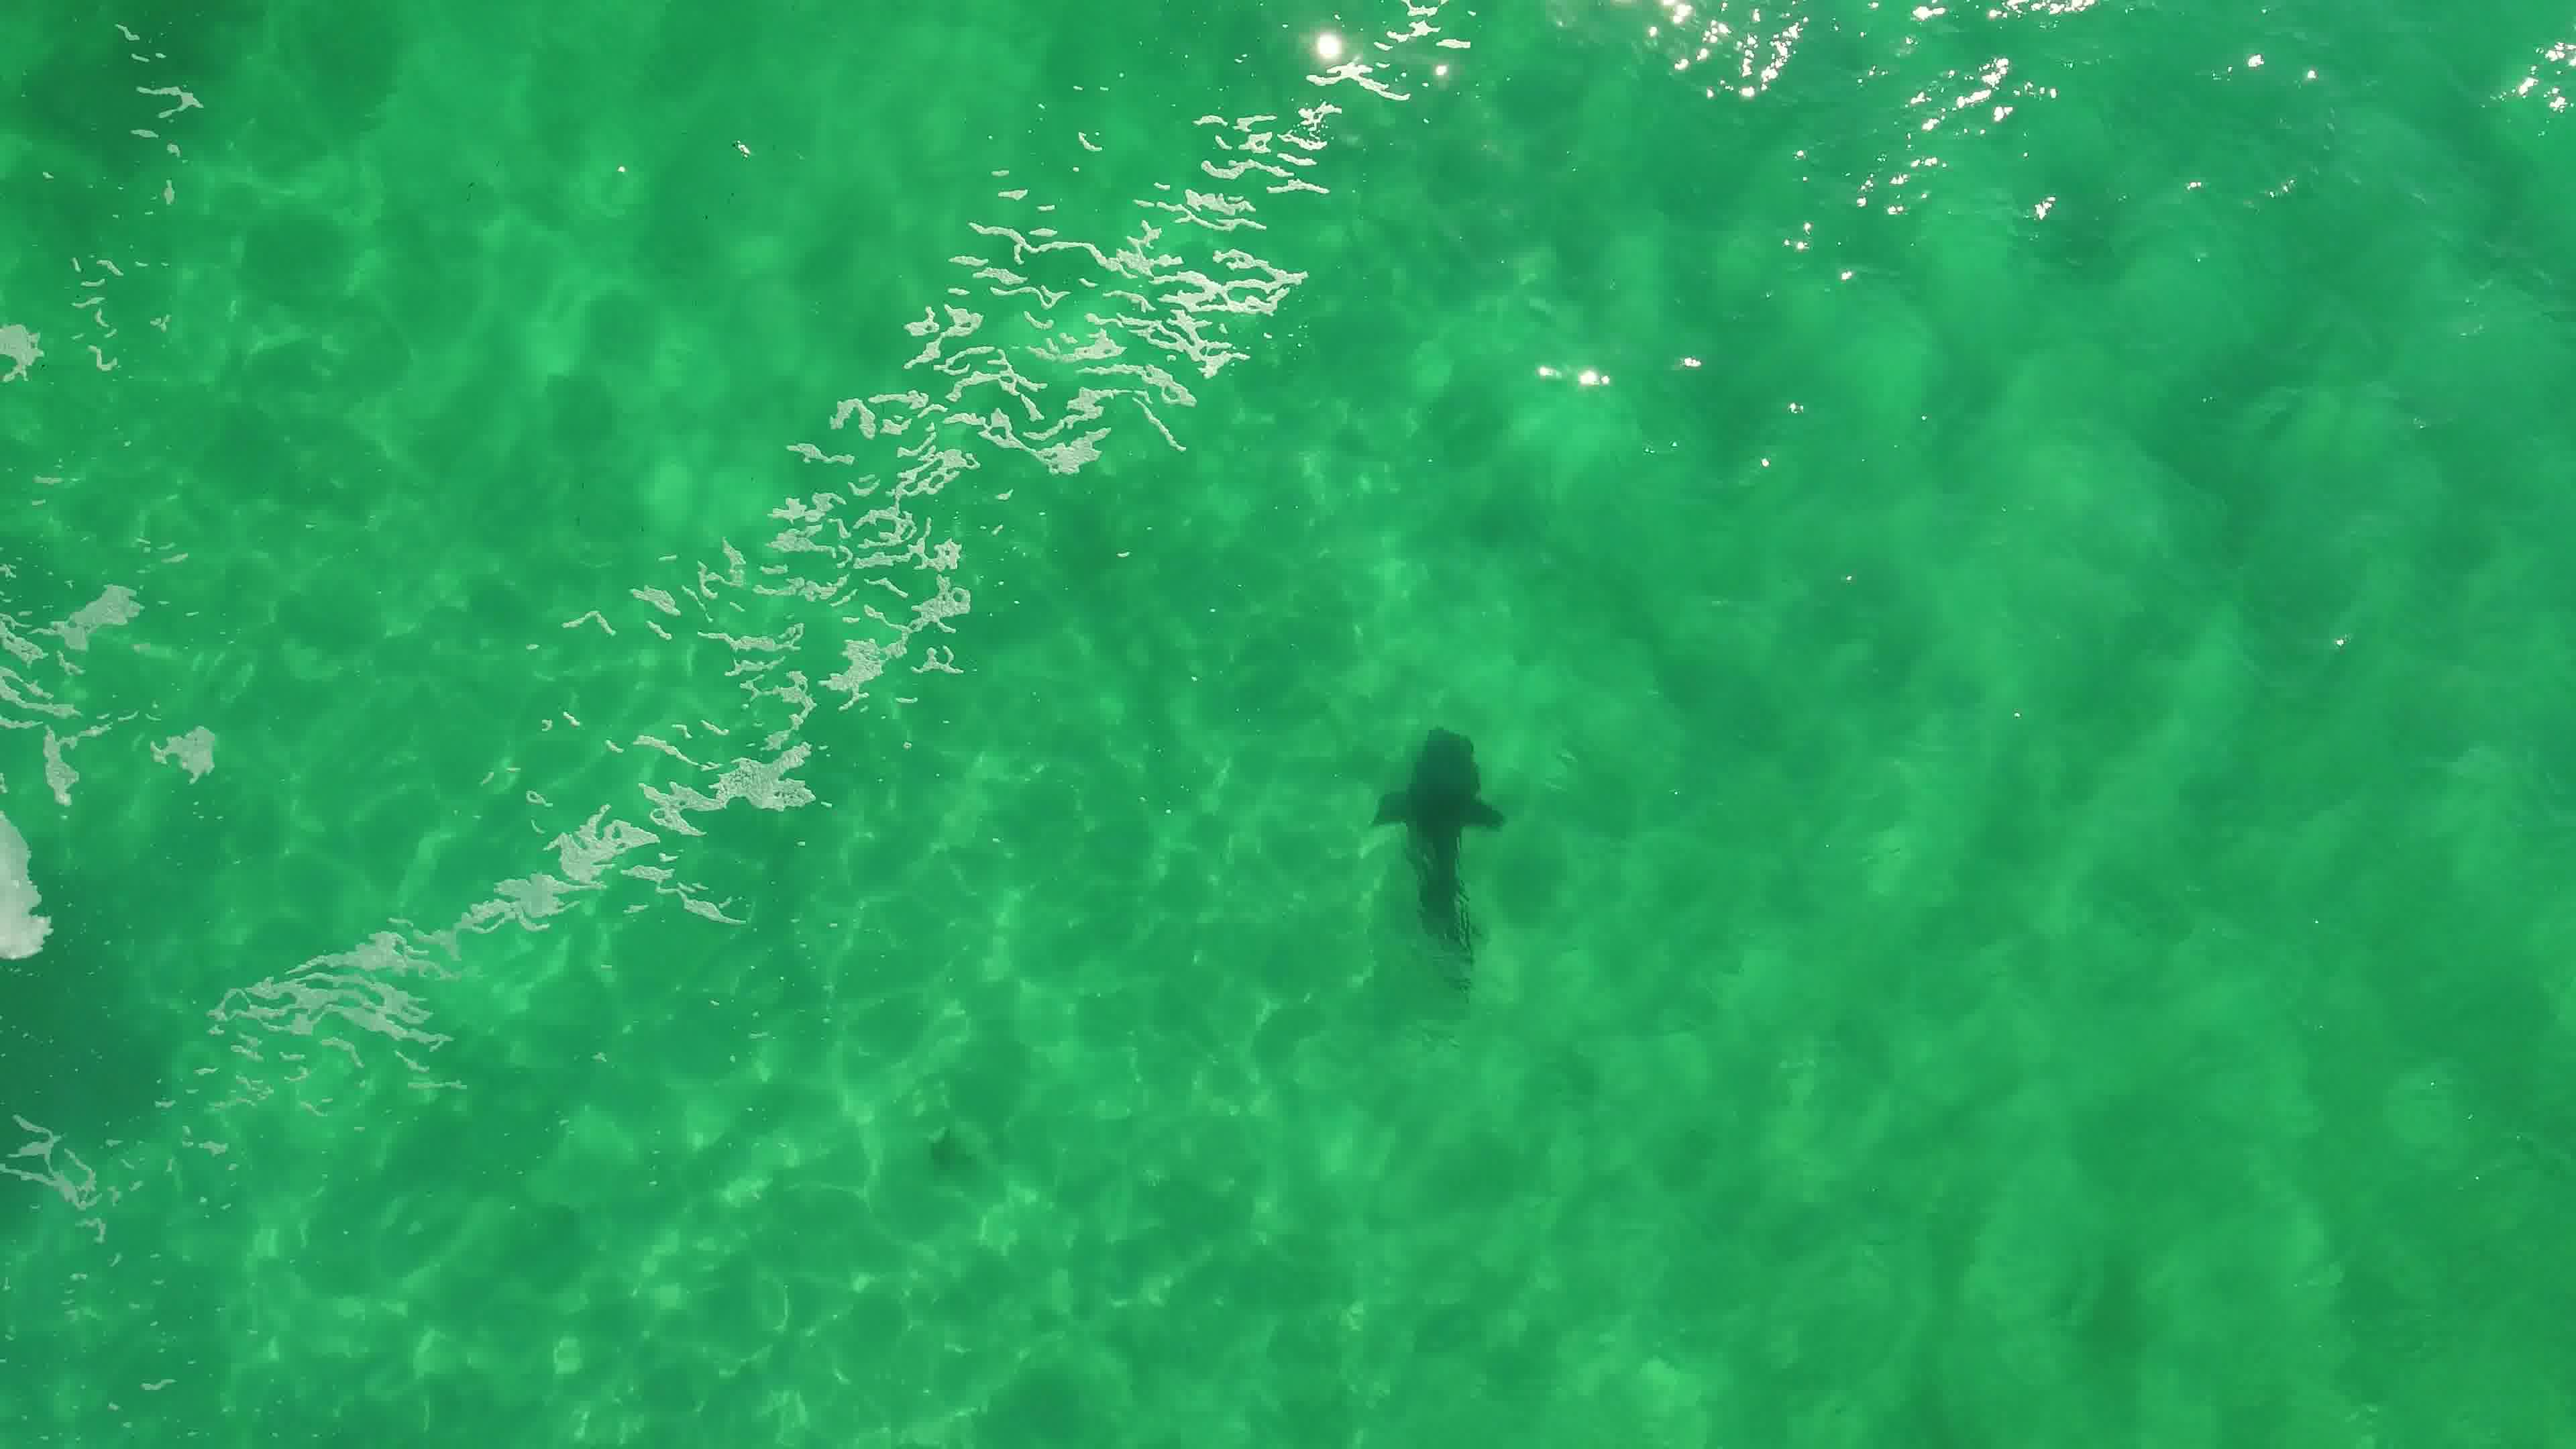shark: (1366, 718, 1511, 977)
